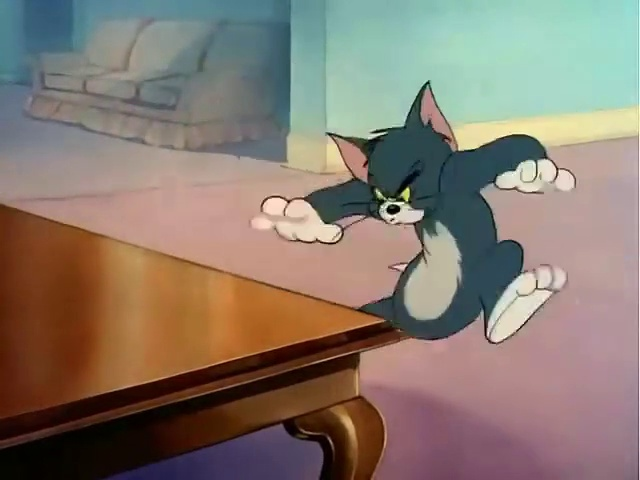tom: (227, 59, 609, 384)
